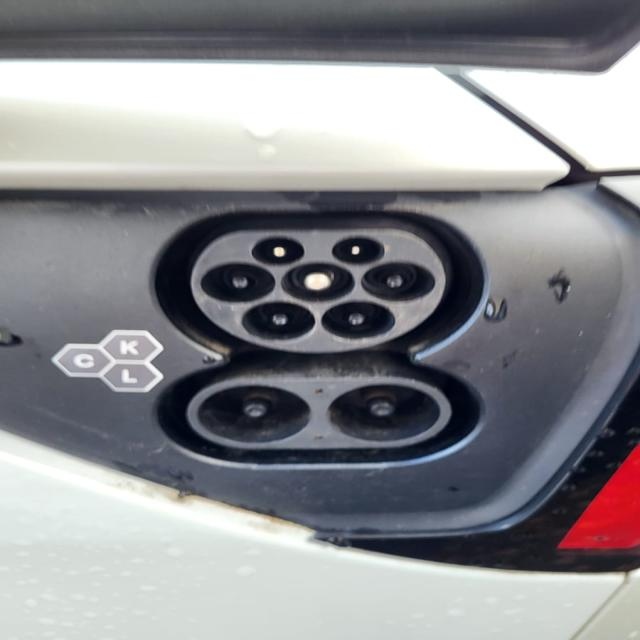inlet: (191, 228, 447, 353)
inlet-above-left: (252, 238, 304, 265)
inlet-above-right: (331, 237, 386, 265)
inlet-below-left: (241, 302, 315, 341)
inlet-below-right: (321, 301, 395, 340)
inlet-circle: (281, 264, 354, 303)
inlet-circle-left: (200, 264, 275, 303)
inlet-circle-right: (362, 263, 436, 302)
inlet-minus: (327, 384, 440, 441)
inlet-plus: (199, 385, 311, 443)
